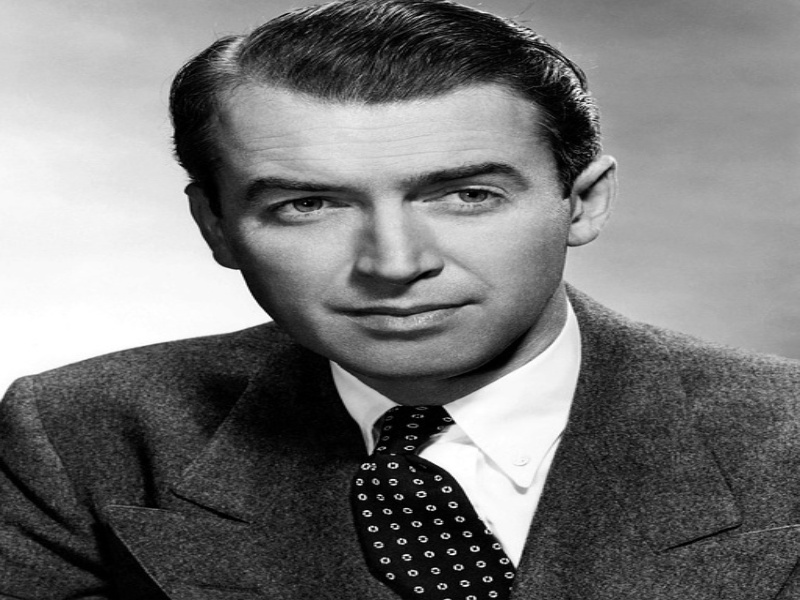TsisyArotava: (161, 28, 629, 381)
